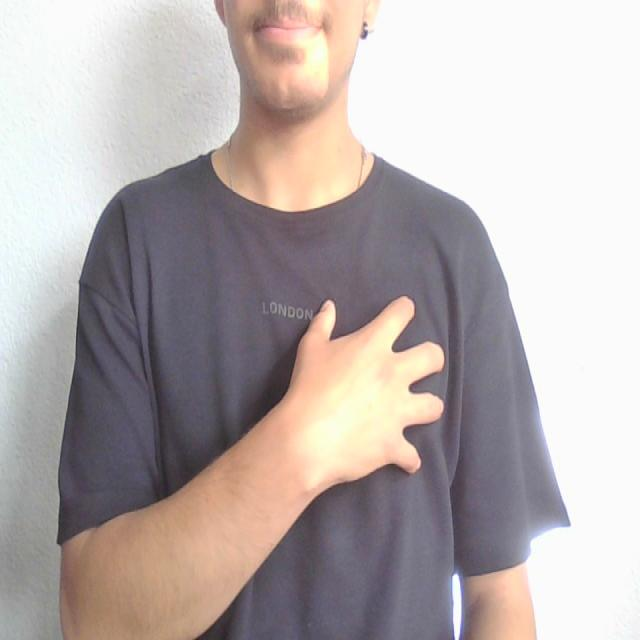Anne: (140, 259, 476, 507)
